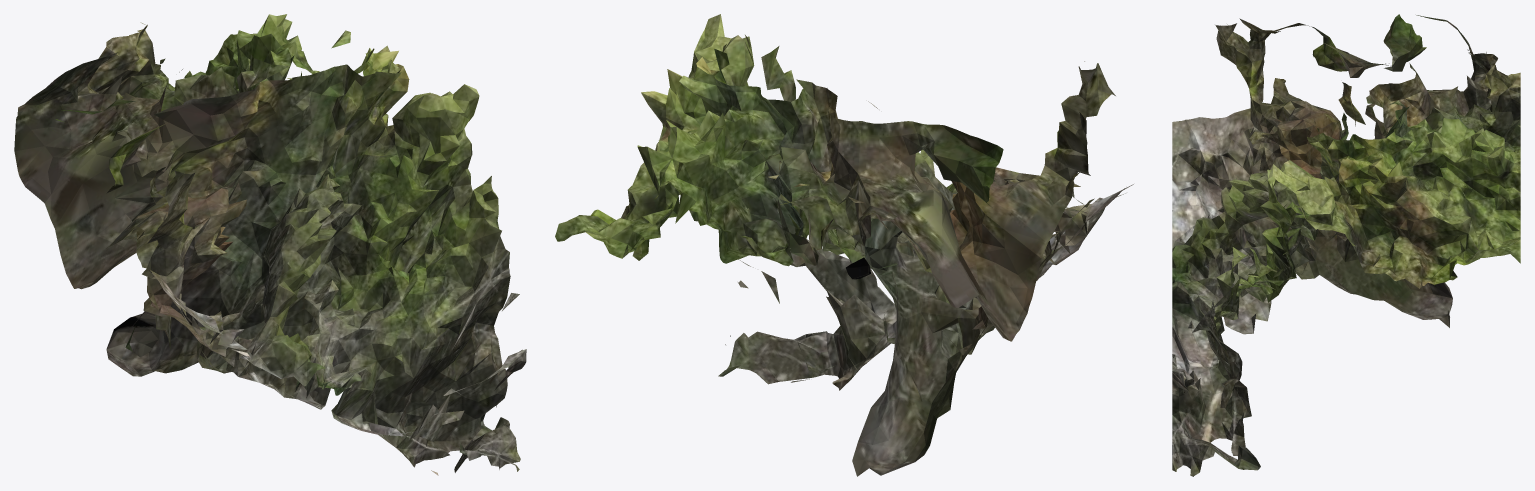
The picture shows the model from 3 angles, left to right: view 1: azimuth 30°, elevation 25°; view 2: azimuth 150°, elevation 25°; view 3: azimuth 270°, elevation 25°; orthographic projection. The views are drawn at different scales.
Size of the model in its own units: 11.8 by 11.8 by 11.8.
8 materials, 8 textured.
